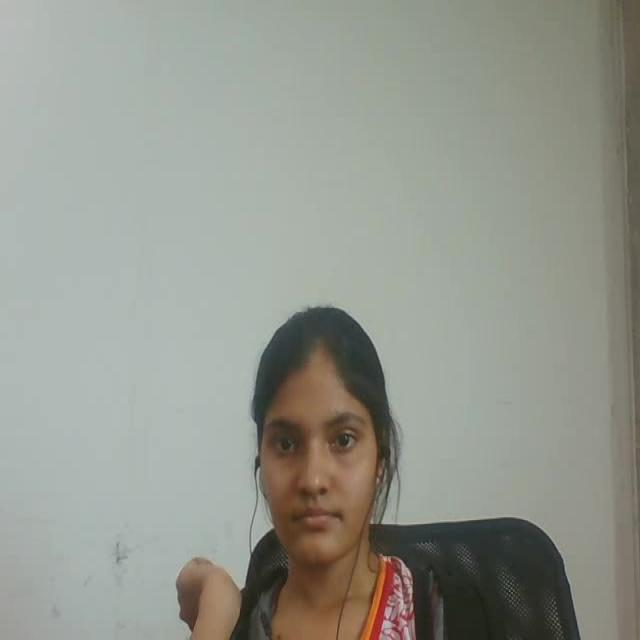Engaged: (236, 281, 412, 592)
